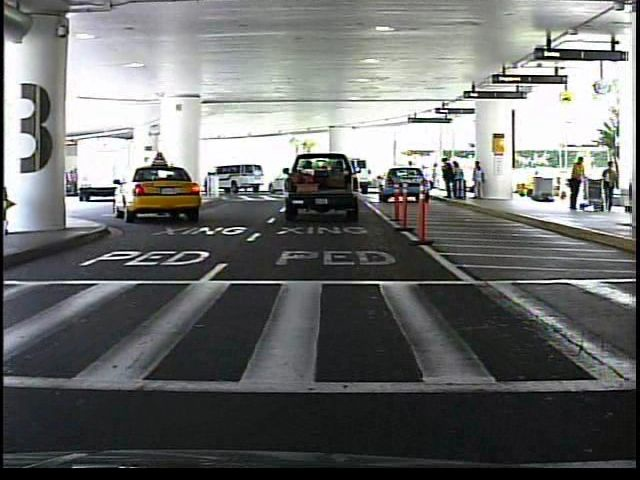person: (564, 154, 589, 215), (599, 158, 621, 214), (405, 158, 420, 193)
